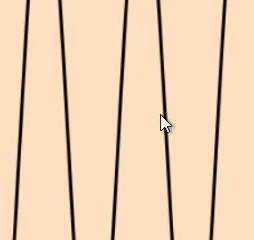cursor: (158, 111, 173, 134)
